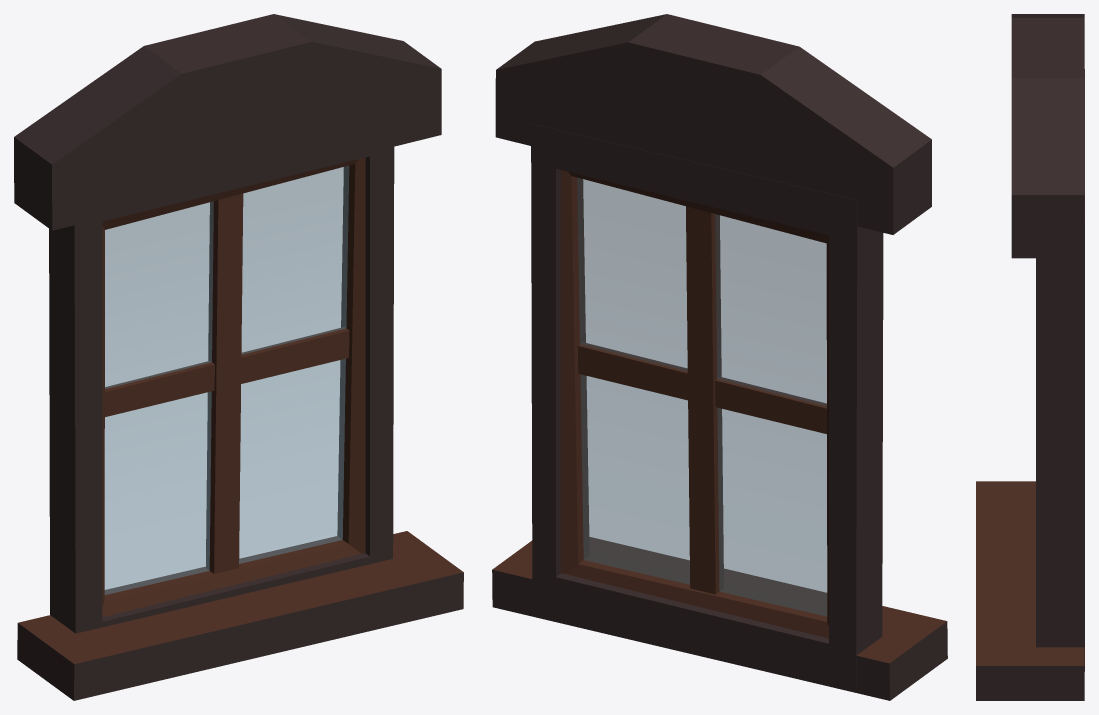
Rendered from Window 2x2 V4 Closed.glb.
The picture shows the model from 3 angles, left to right: view 1: azimuth 30°, elevation 25°; view 2: azimuth 150°, elevation 25°; view 3: azimuth 270°, elevation 25°; orthographic projection. The views are drawn at different scales.
Parts seen in each view (by area): view 1: Window 2x2 V4 Closed; view 2: Window 2x2 V4 Closed; view 3: Window 2x2 V4 Closed.
Part boxes in pixels (box(x1,y1,x2,y2)): Window 2x2 V4 Closed: box(14, 14, 463, 700); Window 2x2 V4 Closed: box(492, 14, 947, 700); Window 2x2 V4 Closed: box(976, 14, 1084, 700).
Bounding box in the file's own units: 1.42 × 2.02 × 0.3549.
2 materials, 2 textured.
